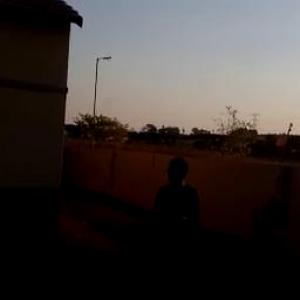follow: (150, 155, 207, 299)
